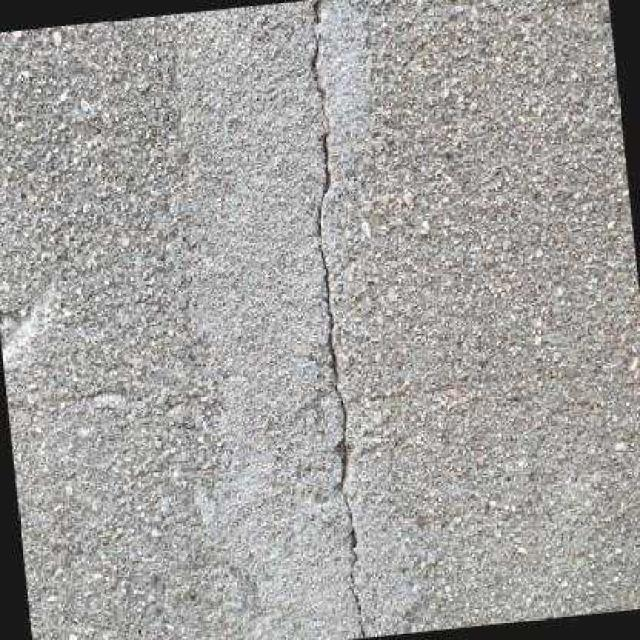D00: (309, 0, 366, 638)
